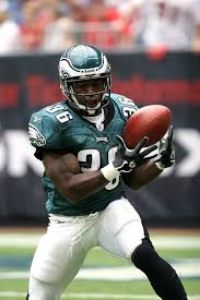futbol americano: (122, 104, 172, 150)
